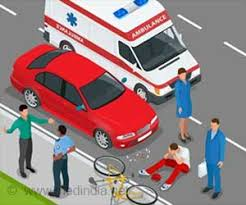accident: (37, 61, 200, 204)
